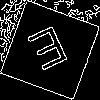E: (25, 25, 75, 80)
